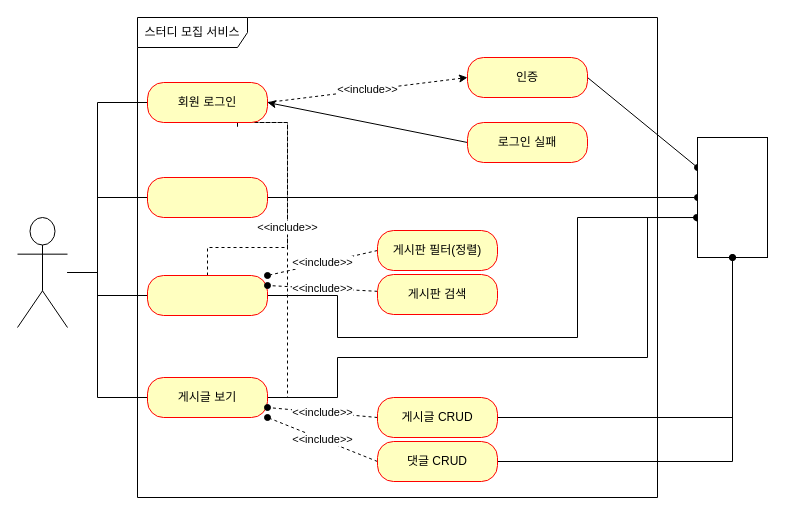
Image size: 785x515. Some labels were removed from this diagram. The shapes that lost their labels are listed below. From the top down, each one's centre as x and y in pixels, then its label:
At (x=207, y=197): "회원 가입".
At (x=732, y=197): "데이터베이스".
At (x=42, y=272): "Actor".
At (x=207, y=295): "게시판 보기".
